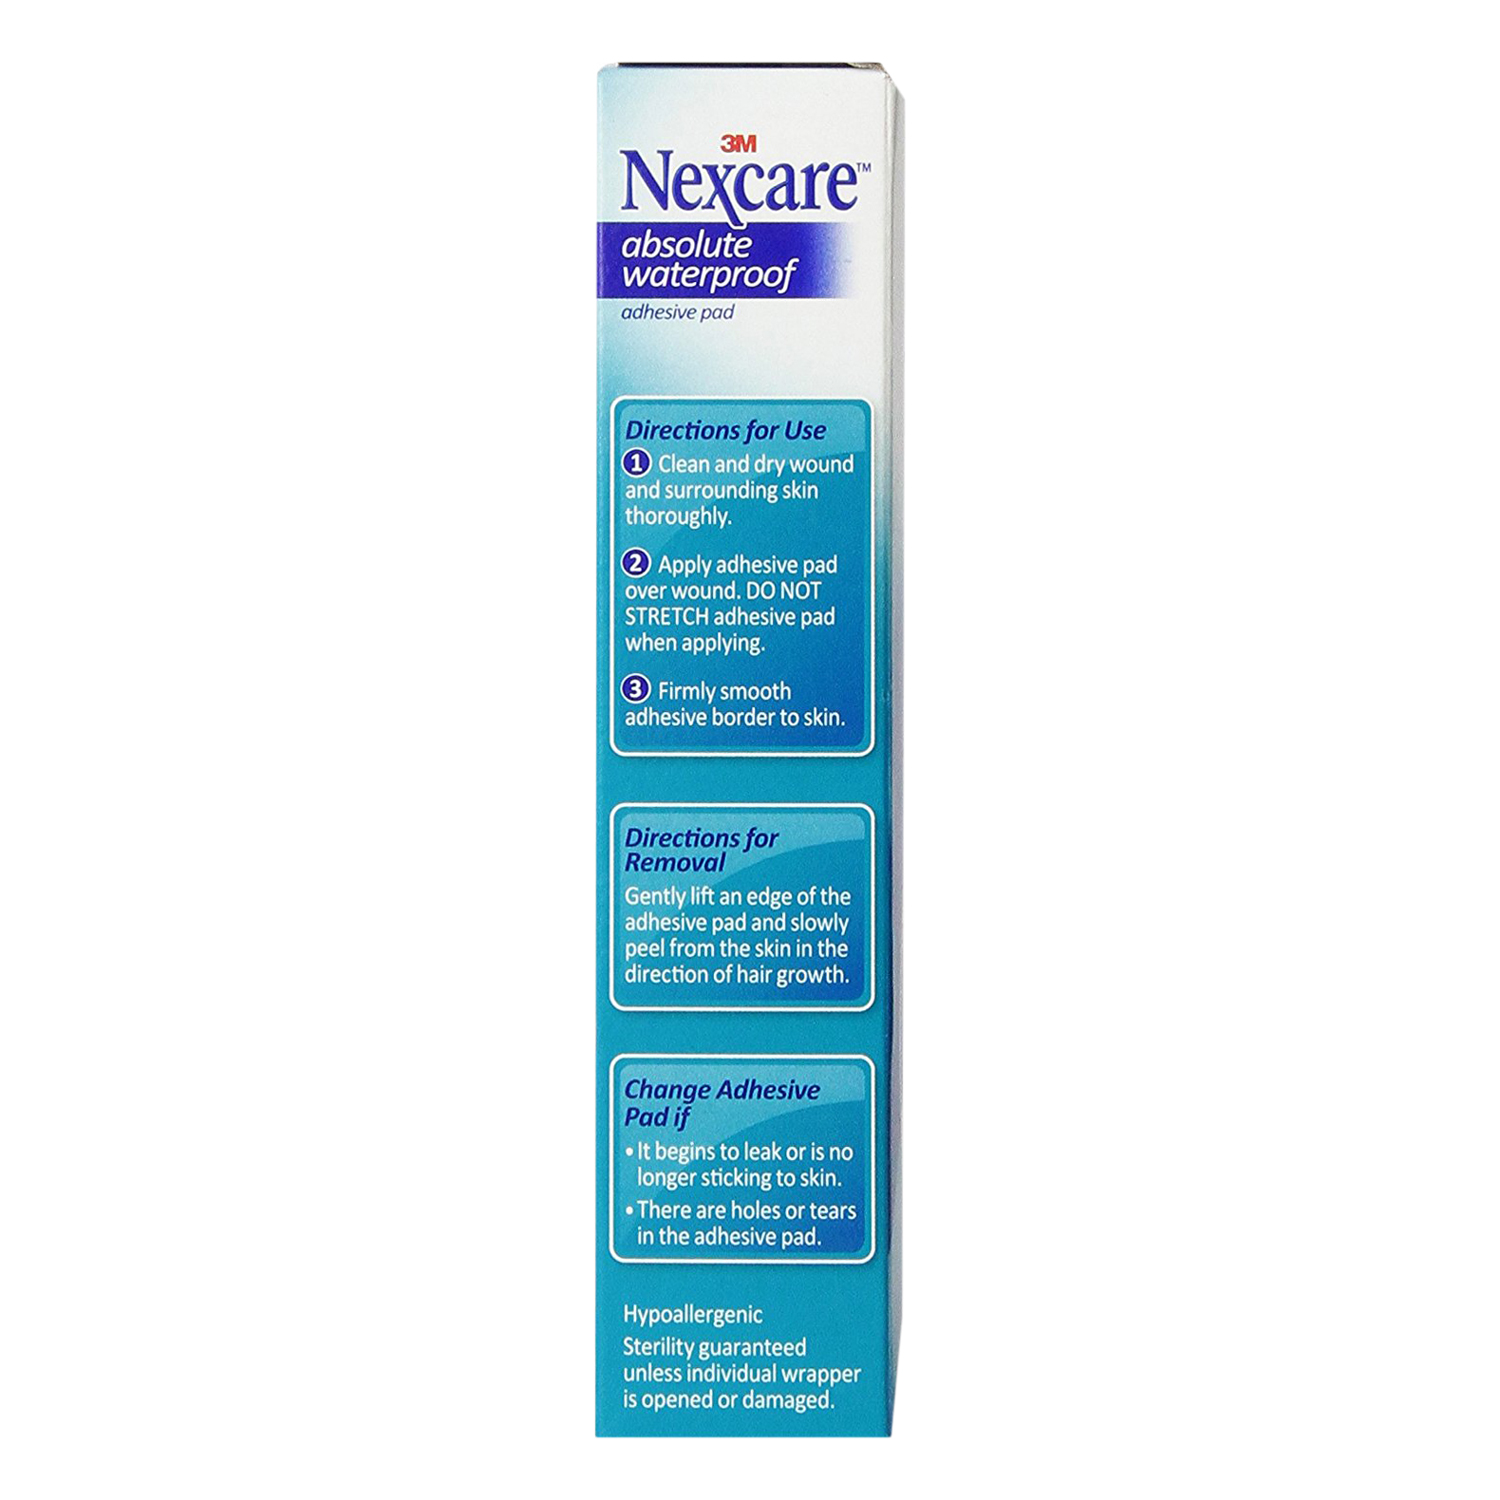3M: (716, 120, 766, 159)
